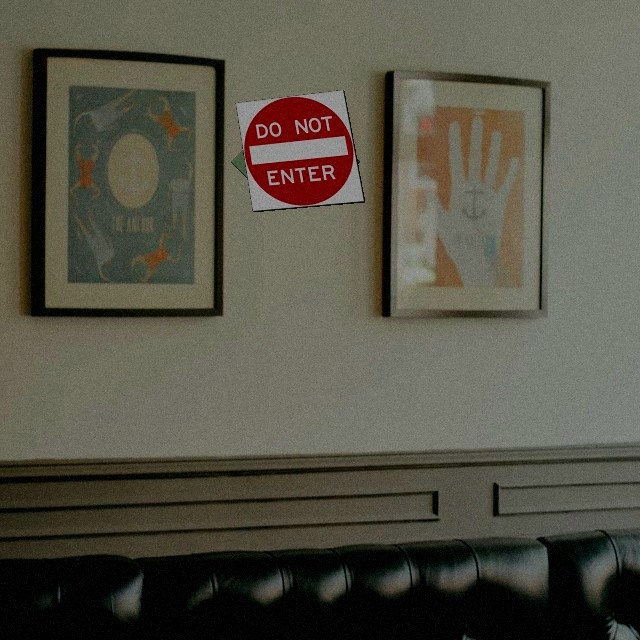DO_NOT_ENTER: (235, 89, 365, 212)
GO_AROUND: (230, 126, 360, 197)
